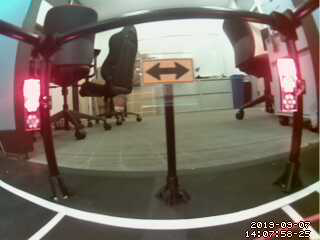Left_Right_sign: (143, 60, 198, 81)
Traffic_light_red: (275, 58, 305, 115), (24, 79, 40, 129)
